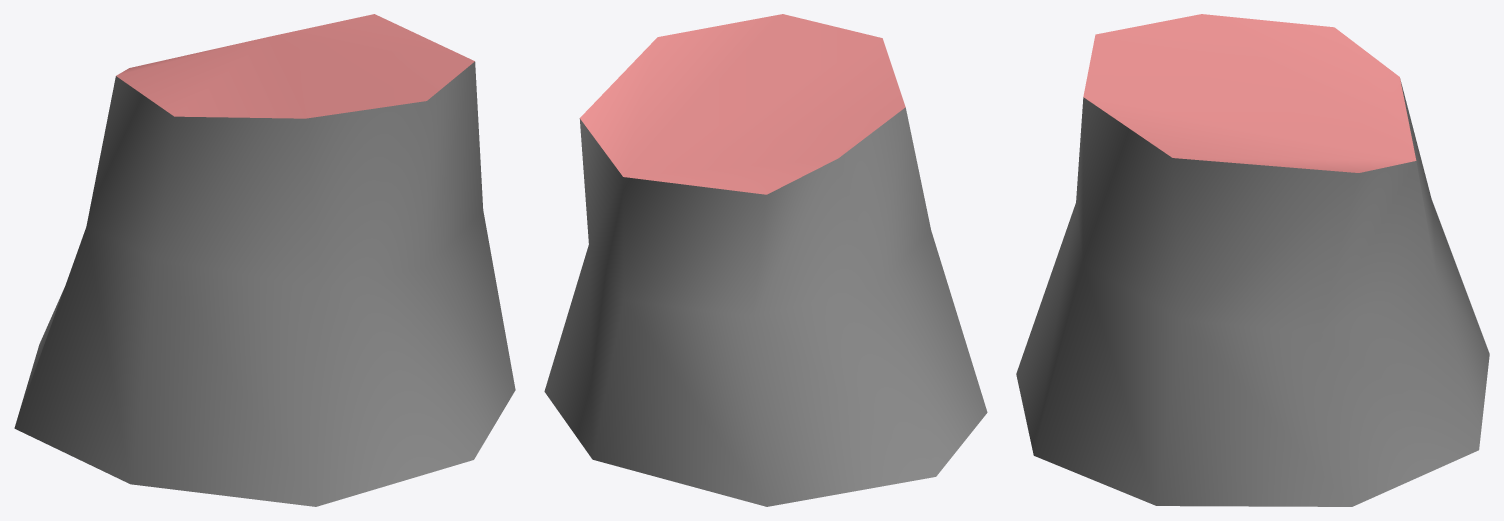
File: V_Obj_S__O_Hatchet-Wood01.gltf
3 views of the same model, side by side, from view 1: azimuth 30°, elevation 25°; view 2: azimuth 150°, elevation 25°; view 3: azimuth 270°, elevation 25° (orthographic). The views are drawn at different scales.
Visible parts, largest first — view 1: O_Hatchet-Wood01; view 2: O_Hatchet-Wood01; view 3: O_Hatchet-Wood01.
Part boxes in pixels (x1=…): O_Hatchet-Wood01: x1=14, y1=14, x2=515, y2=506; O_Hatchet-Wood01: x1=544, y1=14, x2=987, y2=506; O_Hatchet-Wood01: x1=1016, y1=14, x2=1489, y2=506.
Bounding box in the file's own units: 0.2659 × 0.2145 × 0.2603.
